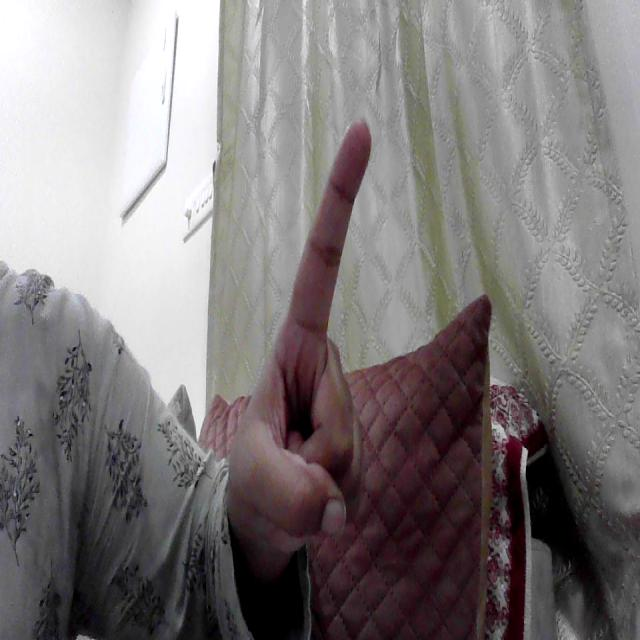Suchi: (207, 113, 416, 574)
